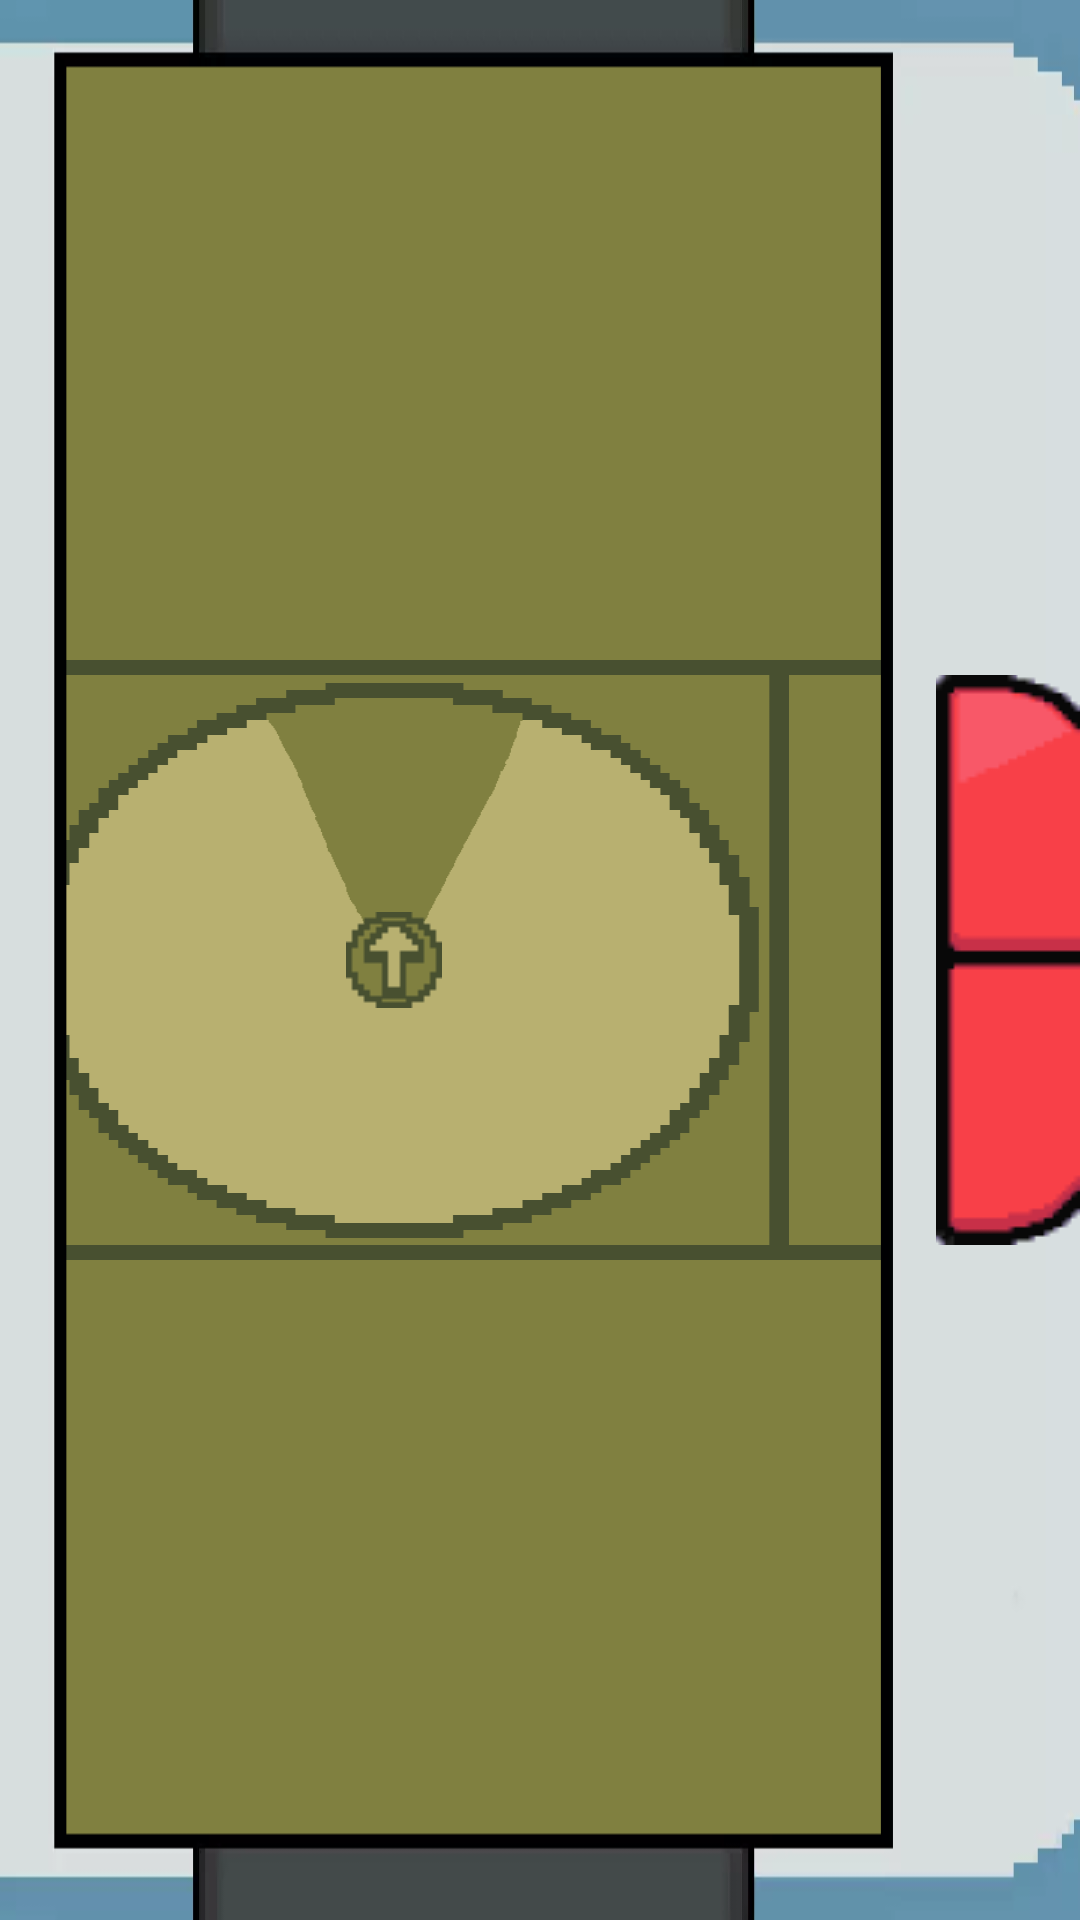

Screen size 1080 × 1920. Icon name, then its box in pixels as [x1, y1, x2, y2]:
roullete needle pointer: [346, 912, 442, 1008]
